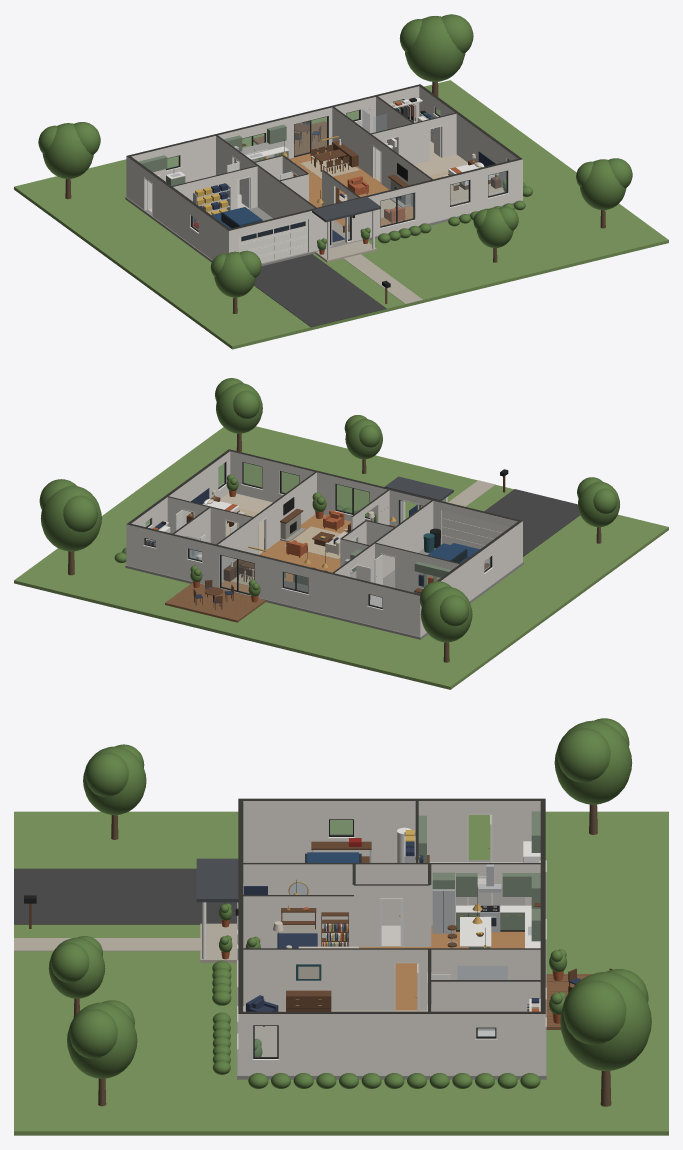
Rendered from house1.glb.
The picture shows the model from 3 angles, top to bottom: view 1: azimuth 30°, elevation 25°; view 2: azimuth 150°, elevation 25°; view 3: azimuth 270°, elevation 25°; orthographic projection. The views are drawn at different scales.
Visible parts, largest first — view 1: lawn, wall (×19), canopy (×7), driveway, window_glass (×2), front_path, porch_canopy, floor_bedroom, deck, foundation, porch, floor_kitchen_dining (+3 smaller); view 2: lawn, wall (×18), canopy (×9), driveway, deck, window_glass (×2), garage_panel (×2), foundation, floor_passage, porch_canopy, floor_bedroom, living_rug (+2 smaller); view 3: lawn, wall (×15), canopy (×10), driveway, front_path, porch_canopy, floor_passage, porch, foundation, floor_kitchen_dining, dresser, refrigerator (+8 smaller).
Boxes of the visible parts, x1,y1,x2,y2 form: lawn: [14, 80, 668, 349]; wall (×19): [128, 92, 522, 259]; canopy (×7): [42, 14, 626, 297]; driveway: [254, 254, 386, 327]; window_glass (×2): [294, 117, 413, 226]; front_path: [343, 254, 422, 304]; porch_canopy: [312, 197, 380, 222]; floor_bedroom: [374, 154, 504, 205]; deck: [253, 121, 326, 155]; foundation: [125, 154, 523, 266]; porch: [315, 240, 376, 262]; floor_kitchen_dining: [289, 149, 368, 189]; lawn: [14, 426, 668, 689]; wall (×18): [126, 459, 521, 636]; canopy (×9): [40, 383, 619, 642]; driveway: [484, 489, 579, 556]; deck: [165, 582, 265, 622]; window_glass (×2): [221, 485, 369, 593]; garage_panel (×2): [442, 510, 509, 538]; foundation: [125, 543, 523, 639]; floor_passage: [259, 540, 340, 572]; porch_canopy: [385, 476, 453, 500]; floor_bedroom: [220, 493, 272, 554]; living_rug: [284, 526, 340, 559]; lawn: [14, 811, 668, 1135]; wall (×15): [240, 801, 542, 1075]; canopy (×10): [48, 720, 651, 1078]; driveway: [14, 868, 236, 924]; front_path: [14, 938, 200, 951]; porch_canopy: [196, 858, 238, 902]; floor_passage: [359, 946, 429, 1010]; porch: [200, 923, 236, 962]; foundation: [237, 860, 546, 1079]; floor_kitchen_dining: [429, 925, 524, 948]; dresser: [286, 990, 331, 1011]; refrigerator: [432, 889, 454, 933].
Bounding box in the file's own units: 30 × 5.92 × 26.
